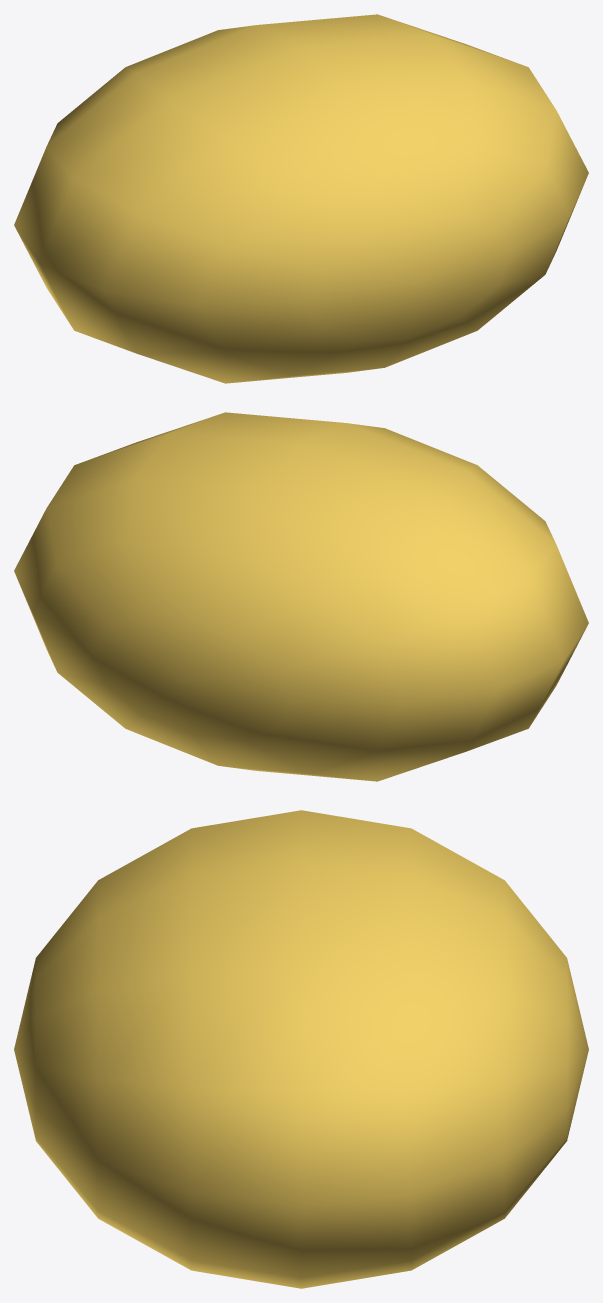
File: beak.glb
3 views of the same model, one above another, from view 1: azimuth 30°, elevation 25°; view 2: azimuth 150°, elevation 25°; view 3: azimuth 270°, elevation 25° (orthographic). The views are drawn at different scales.
Visible parts, largest first — view 1: beak_Head; view 2: beak_Head; view 3: beak_Head.
Part boxes in pixels (bbox=[...]): beak_Head: bbox=[14, 14, 588, 383]; beak_Head: bbox=[14, 412, 588, 781]; beak_Head: bbox=[14, 810, 588, 1288].
Size of the model in its own units: 0.18 by 0.1 by 0.14.
